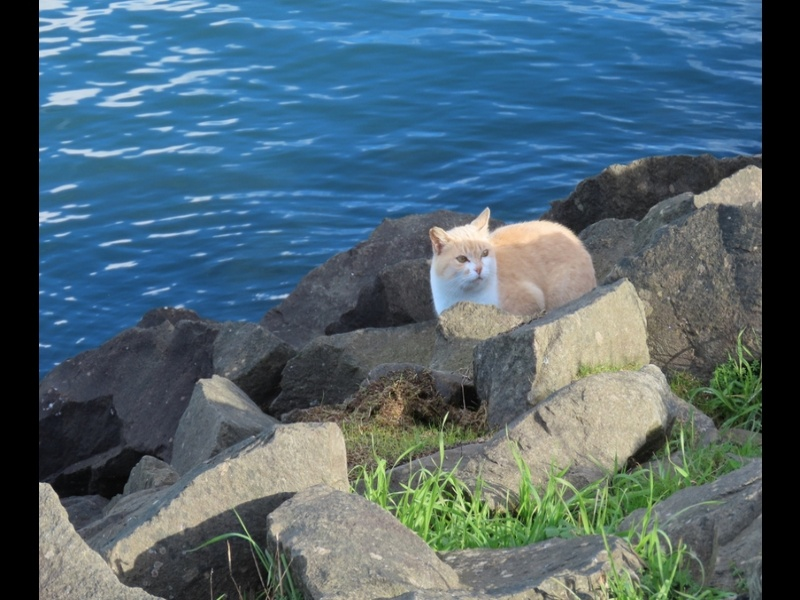cat: (421, 201, 611, 326)
